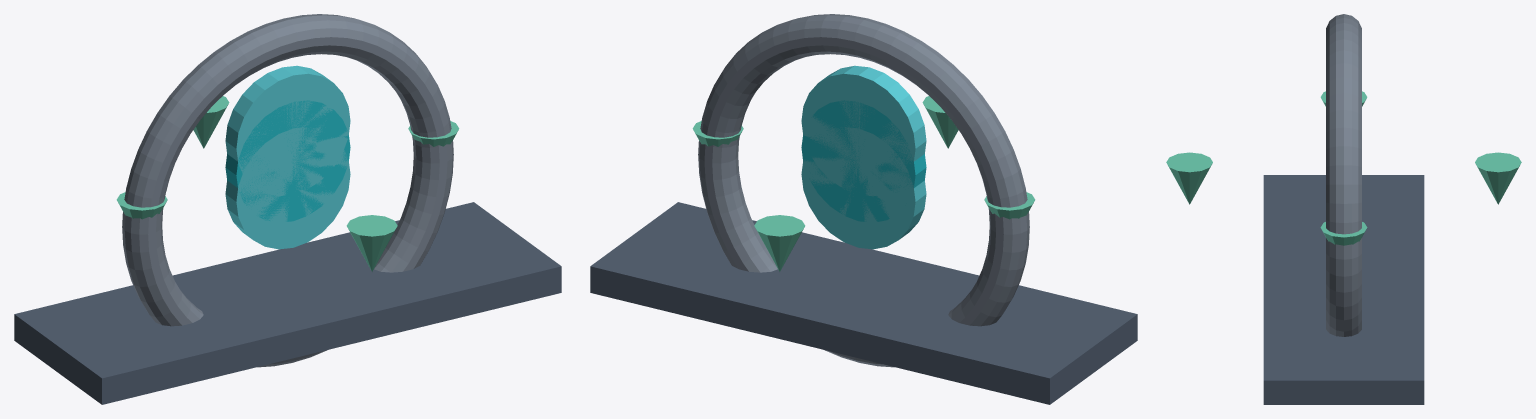
The model's file is BuclesIteracion.glb.
The picture shows the model from 3 angles, left to right: view 1: azimuth 30°, elevation 25°; view 2: azimuth 150°, elevation 25°; view 3: azimuth 270°, elevation 25°; orthographic projection. The views are drawn at different scales.
Visible parts, largest first — view 1: n0, n4, n1, n3, n2, n6, n8, n7; view 2: n0, n4, n3, n1, n2, n8, n6, n7; view 3: n0, n4, n6, n8, n5.
Part boxes in pixels (left/top/right/bottom): n0: left=14, top=202, right=561, bottom=404; n4: left=122, top=14, right=453, bottom=367; n1: left=225, top=127, right=350, bottom=249; n3: left=225, top=65, right=350, bottom=196; n2: left=225, top=100, right=350, bottom=221; n6: left=346, top=215, right=397, bottom=271; n8: left=193, top=96, right=229, bottom=148; n7: left=116, top=192, right=167, bottom=219; n0: left=590, top=202, right=1137, bottom=404; n4: left=698, top=14, right=1029, bottom=367; n3: left=801, top=65, right=926, bottom=196; n1: left=801, top=127, right=926, bottom=249; n2: left=801, top=100, right=926, bottom=221; n8: left=754, top=215, right=805, bottom=271; n6: left=922, top=96, right=958, bottom=148; n7: left=984, top=192, right=1035, bottom=219; n0: left=1263, top=175, right=1424, bottom=404; n4: left=1326, top=14, right=1361, bottom=336; n6: left=1166, top=152, right=1212, bottom=204; n8: left=1475, top=152, right=1521, bottom=204; n5: left=1320, top=222, right=1367, bottom=245.
Size of the model in its own units: 1.45 by 1.03 by 1.06.
